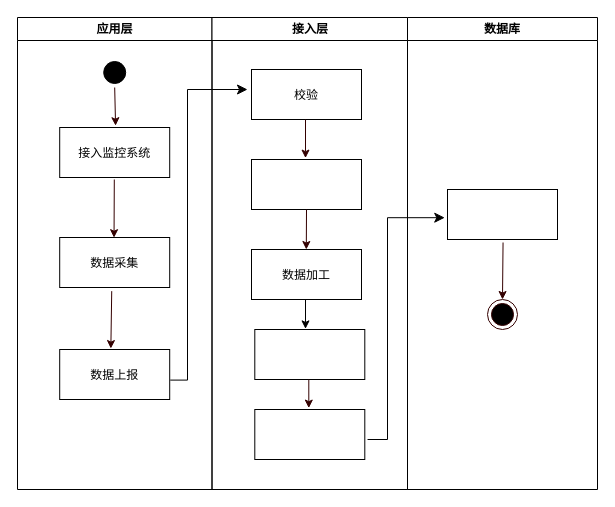
Some shapes in this 615 by 507 pixel diagram are drawn without their labels. Here are the shapes that lost their labels. From the top down, the centre of each, then its label:
At pixel 306 184: "参数处理".
At pixel 502 214: "Mysql".
At pixel 309 354: "数据清洗".
At pixel 309 434: "数据聚合".
